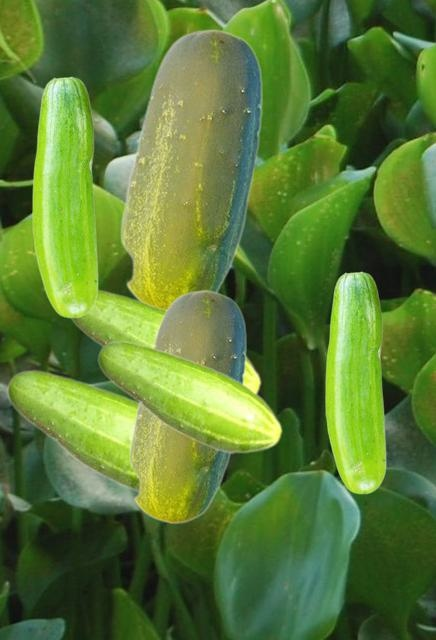cucumber: (119, 28, 261, 307), (128, 289, 245, 523), (97, 340, 282, 454), (70, 288, 261, 393), (6, 369, 137, 493), (32, 76, 97, 317), (325, 271, 385, 493)
